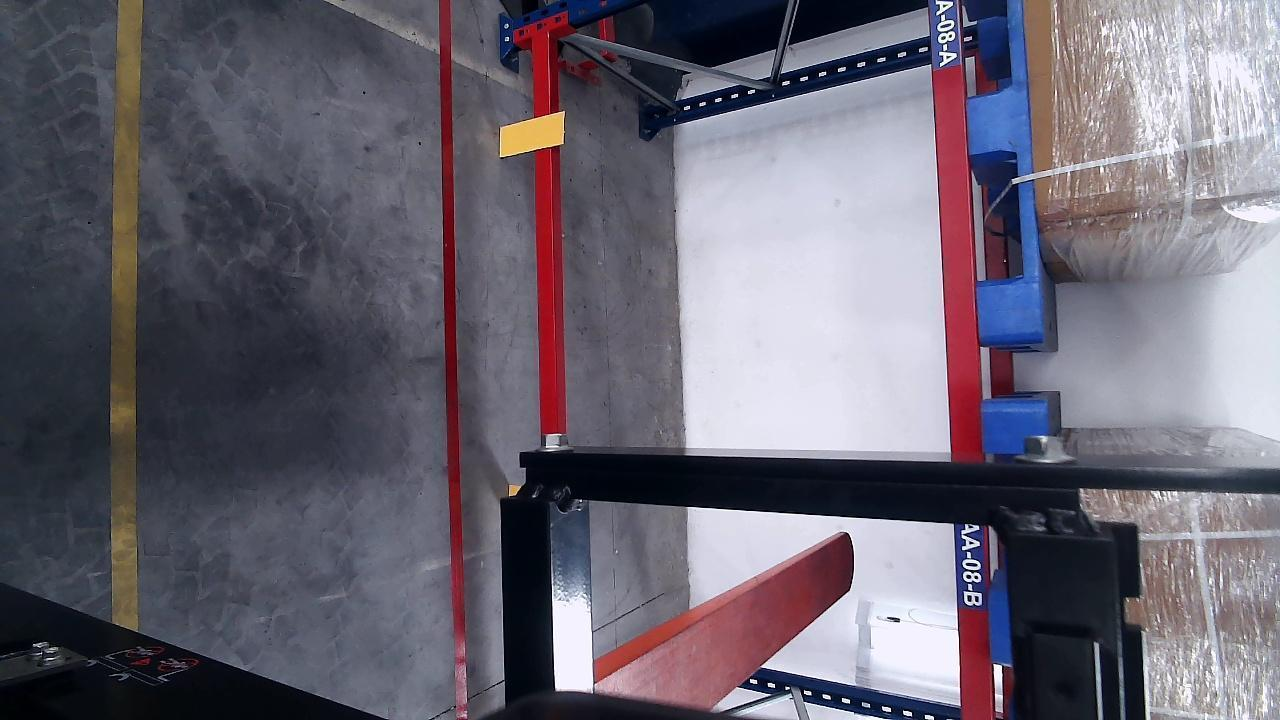red_line: (438, 0, 472, 718)
yellow_line: (107, 1, 143, 628)
